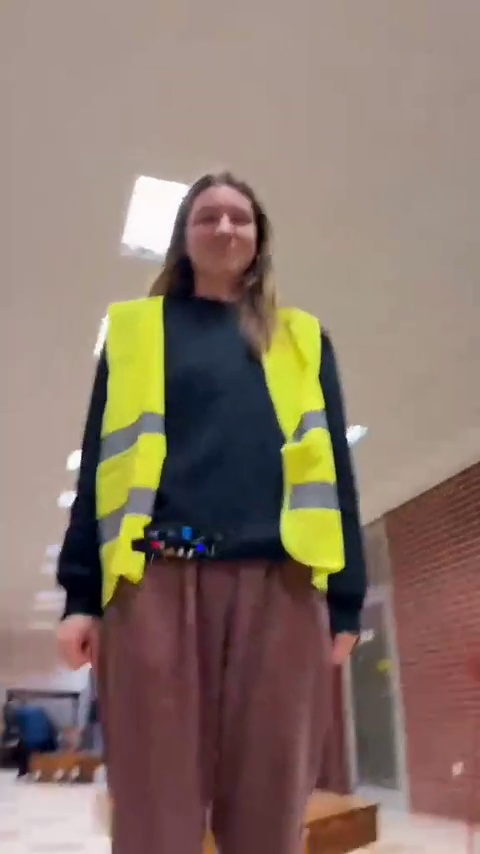drone: (125, 530, 230, 569)
vest: (65, 177, 361, 848)
